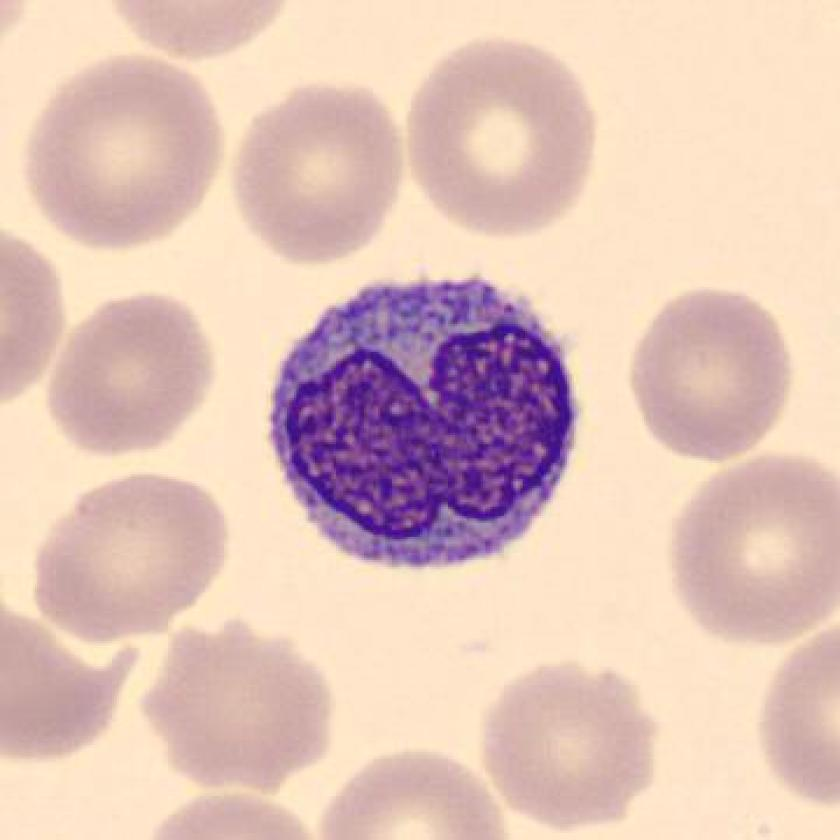monocyte: (251, 251, 608, 593)
